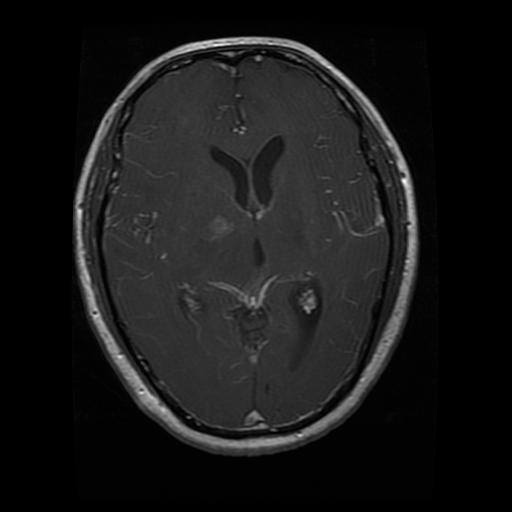Gliomia_tumour: (197, 213, 233, 241)
